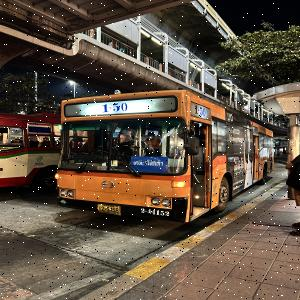BMTA-bus: (55, 90, 276, 223), (0, 112, 60, 192)
Bus Line Number: (99, 101, 130, 113)
Bus Side Number: (138, 208, 172, 218)
Destination Sign: (128, 156, 169, 173)
